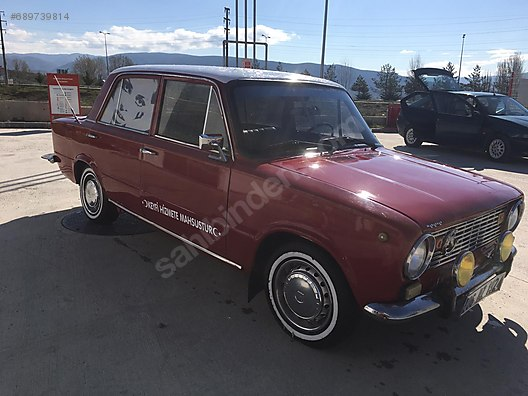murat: (38, 51, 528, 349)
